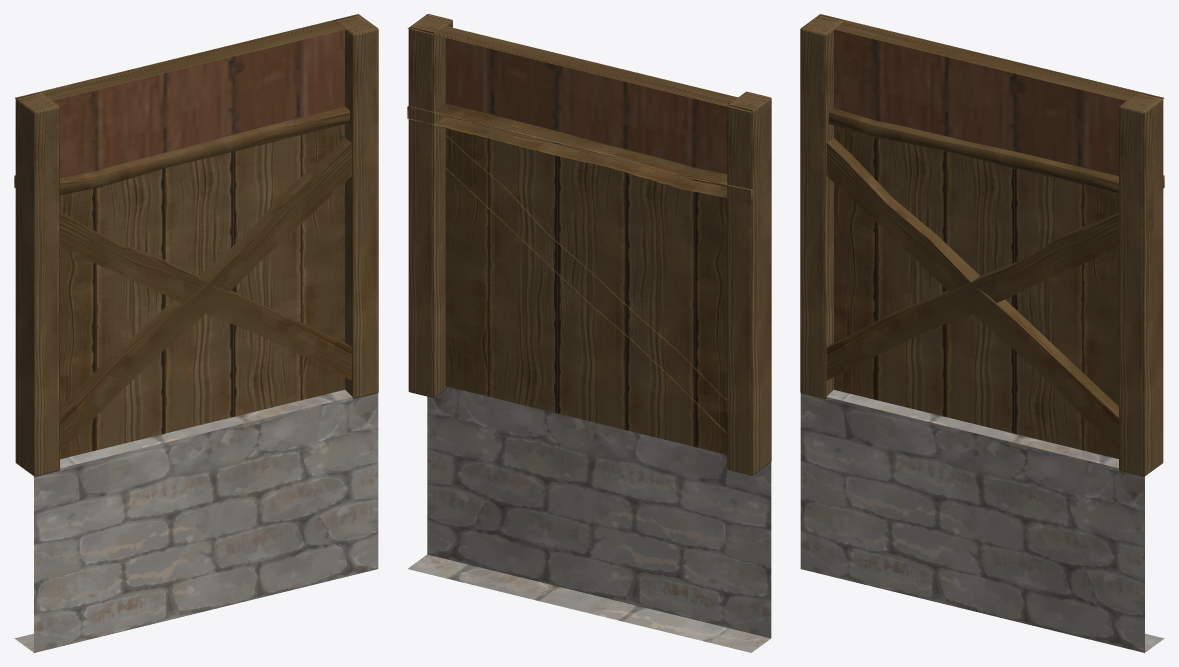
The picture shows the model from 3 angles, left to right: view 1: azimuth 30°, elevation 25°; view 2: azimuth 150°, elevation 25°; view 3: azimuth 330°, elevation 25°; orthographic projection.
Visible parts, largest first — view 1: W3x2C; view 2: W3x2C; view 3: W3x2C.
Boxes of the visible parts, left/top/right/bottom form: W3x2C: left=14, top=14, right=378, bottom=652; W3x2C: left=407, top=14, right=771, bottom=652; W3x2C: left=800, top=14, right=1164, bottom=652.
Bounding box in the file's own units: 2 × 3 × 0.2243.
Materials: 1 (1 with a texture image).
